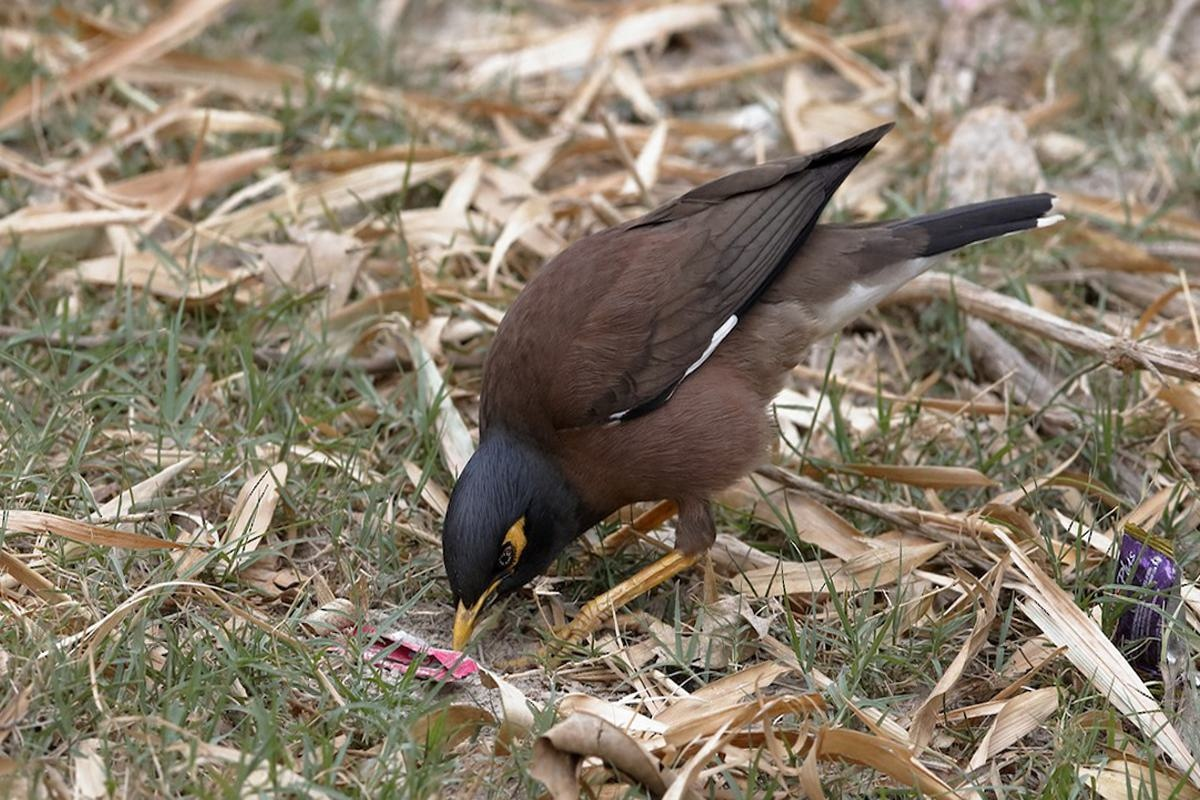myna: (448, 174, 939, 680)
